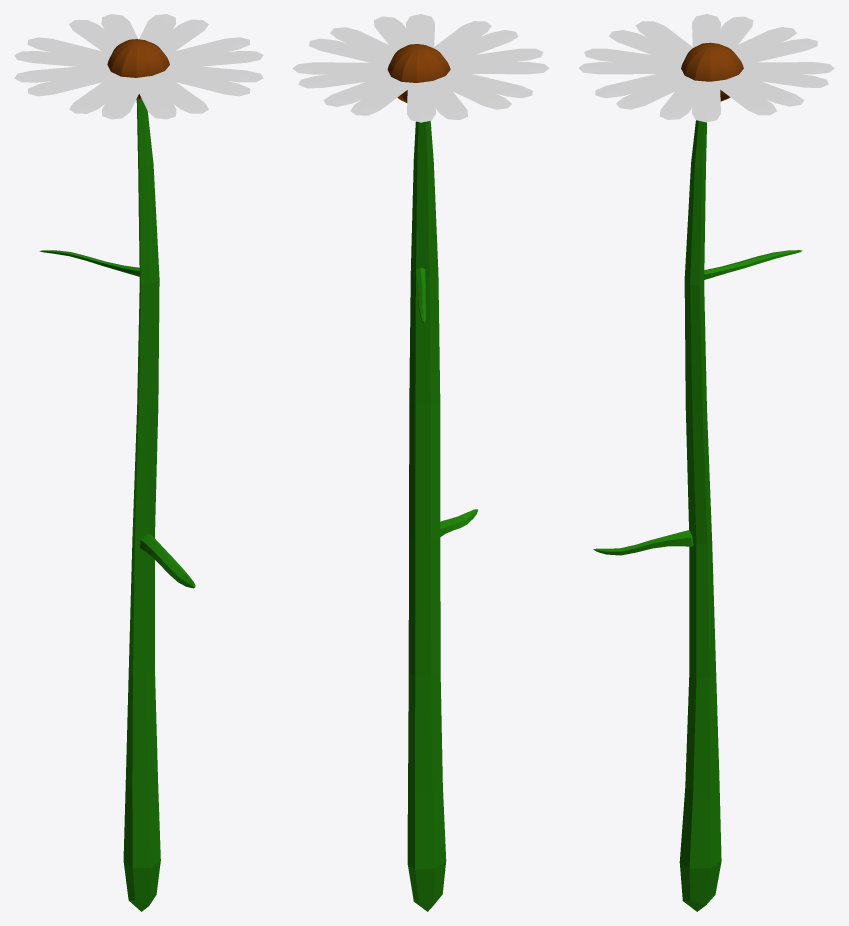
The model's file is BES Veg SDM2 .fbx.
3 views of the same model, side by side, from view 1: azimuth 30°, elevation 25°; view 2: azimuth 150°, elevation 25°; view 3: azimuth 270°, elevation 25° (orthographic).
Parts seen in each view (by area): view 1: Cylinder.001, Sphere, Plane.004, Plane.007, Plane.002, Plane.008, Plane.015, Plane.003, Plane.016, Plane.006, Plane.014, Plane.010 (+6 smaller); view 2: Cylinder.001, Sphere, Plane.002, Plane.008, Plane.016, Plane.009, Plane.006, Plane.003, Plane.005, Plane.017, Plane.010, Plane.004 (+6 smaller); view 3: Cylinder.001, Sphere, Plane.004, Plane.007, Plane.008, Plane.009, Plane.003, Plane.005, Plane.011, Plane.014, Plane.013, Plane.006 (+6 smaller).
Boxes of the visible parts, x1,y1,x2,y2 form: Cylinder.001: [39, 99, 195, 911]; Sphere: [107, 39, 169, 99]; Plane.004: [140, 72, 208, 113]; Plane.007: [158, 64, 263, 82]; Plane.002: [28, 68, 122, 96]; Plane.008: [102, 77, 146, 119]; Plane.015: [153, 69, 250, 96]; Plane.003: [165, 37, 249, 64]; Plane.016: [69, 77, 138, 113]; Plane.006: [14, 51, 109, 69]; Plane.014: [27, 37, 109, 64]; Plane.010: [14, 64, 111, 82]; Cylinder.001: [407, 121, 477, 911]; Sphere: [387, 44, 450, 102]; Plane.002: [441, 69, 532, 98]; Plane.008: [446, 48, 543, 69]; Plane.016: [448, 62, 549, 74]; Plane.009: [298, 67, 392, 88]; Plane.006: [418, 77, 467, 119]; Plane.003: [309, 38, 393, 66]; Plane.005: [350, 78, 415, 115]; Plane.017: [292, 62, 389, 74]; Plane.010: [432, 72, 511, 109]; Plane.004: [433, 21, 491, 60]; Cylinder.001: [593, 120, 802, 911]; Sphere: [681, 42, 743, 101]; Plane.004: [578, 62, 682, 74]; Plane.007: [616, 71, 696, 109]; Plane.008: [609, 30, 687, 65]; Plane.009: [720, 74, 803, 106]; Plane.003: [692, 80, 720, 122]; Plane.005: [740, 62, 834, 74]; Plane.011: [659, 77, 709, 119]; Plane.014: [736, 38, 817, 65]; Plane.013: [740, 67, 828, 87]; Plane.006: [730, 27, 796, 60].
Size of the model in its own units: 116 by 433 by 116.
